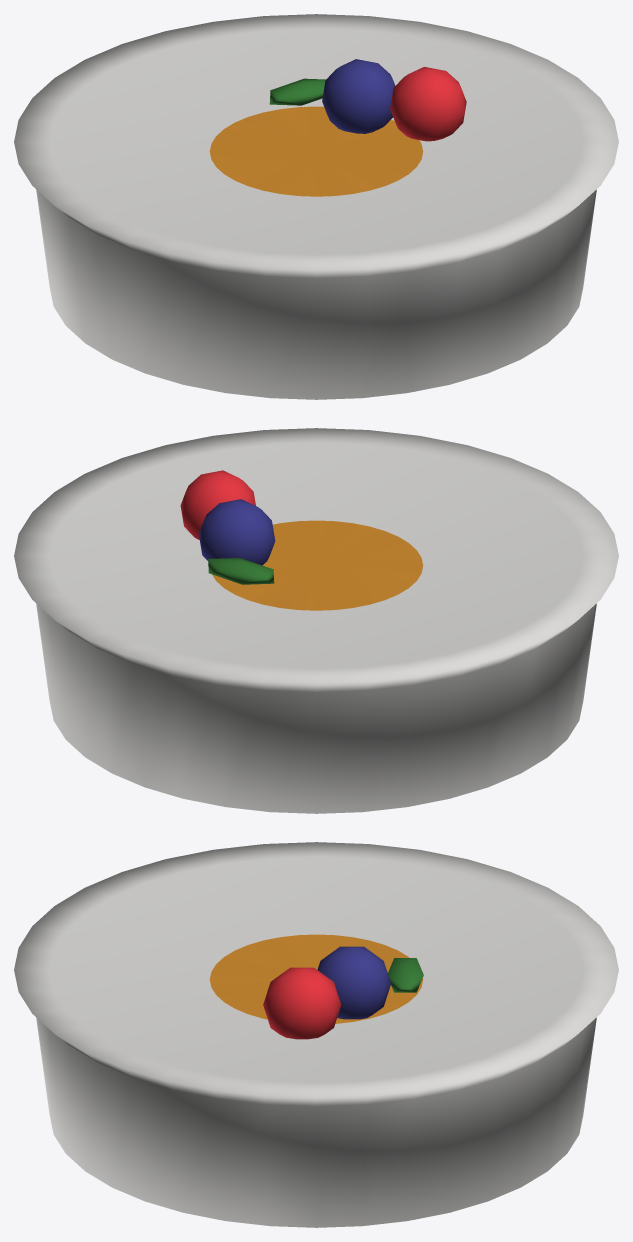
File: item_dish_creme_brulee.glb
3 renders of one model, top to bottom at view 1: azimuth 30°, elevation 25°; view 2: azimuth 150°, elevation 25°; view 3: azimuth 270°, elevation 25°, orthographic.
Parts seen in each view (by area): view 1: item_dish_creme_brulee_main, item_dish_creme_brulee_gloss; view 2: item_dish_creme_brulee_main, item_dish_creme_brulee_gloss; view 3: item_dish_creme_brulee_main, item_dish_creme_brulee_gloss.
Boxes of the visible parts, x1,y1,x2,y2 form: item_dish_creme_brulee_main: (14, 14, 618, 399); item_dish_creme_brulee_gloss: (209, 59, 466, 196); item_dish_creme_brulee_main: (14, 428, 618, 813); item_dish_creme_brulee_gloss: (180, 470, 423, 610); item_dish_creme_brulee_main: (14, 842, 618, 1227); item_dish_creme_brulee_gloss: (209, 934, 423, 1039).
Size of the model in its own units: 0.17 by 0.061 by 0.17.
